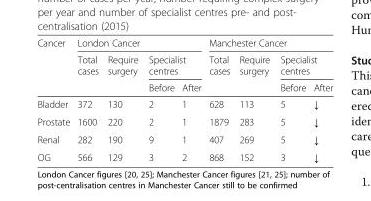table: (36, 36, 332, 162)
table column: (102, 36, 142, 162), (234, 36, 274, 162), (36, 36, 72, 162), (142, 36, 177, 162), (274, 36, 309, 162), (72, 36, 102, 162), (204, 36, 234, 162), (177, 36, 204, 162), (309, 36, 332, 162)
table column header: (36, 36, 332, 95)
table row: (36, 50, 332, 78), (36, 112, 332, 130), (36, 78, 332, 95), (36, 95, 332, 112), (36, 130, 332, 147), (36, 147, 332, 162), (36, 36, 332, 50)
table spanning cell: (36, 36, 72, 95), (72, 36, 204, 50), (102, 50, 142, 95), (234, 50, 274, 95), (204, 36, 332, 50), (142, 50, 204, 78), (274, 50, 332, 78), (72, 50, 102, 95), (204, 50, 234, 95)
